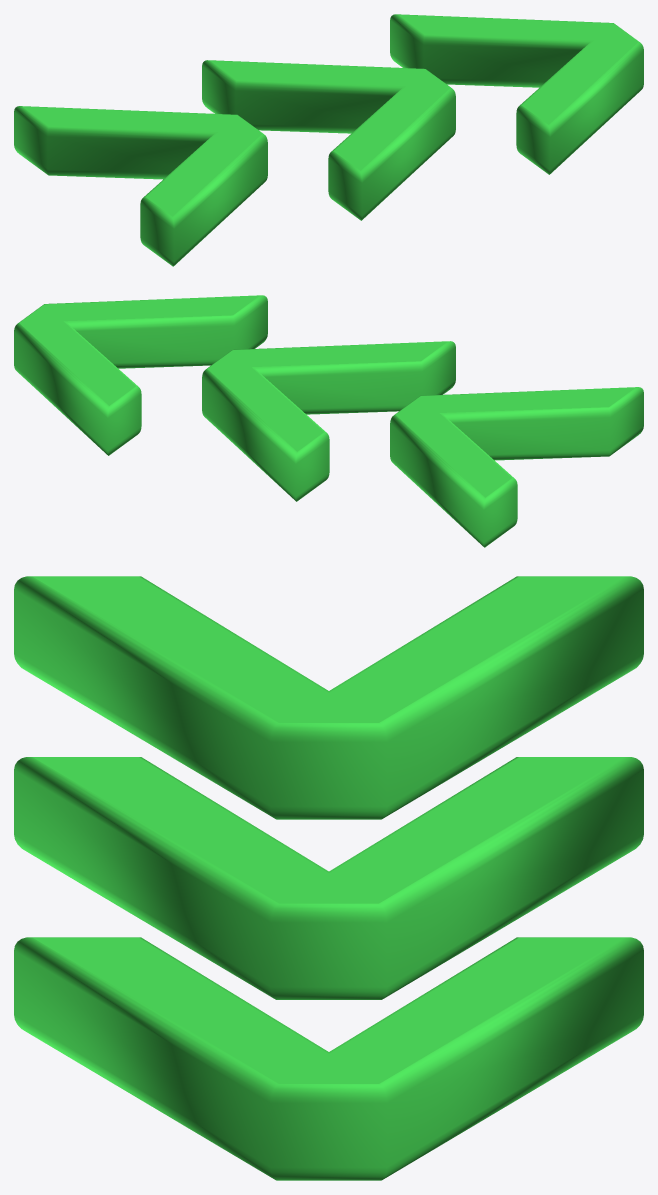
3 renders of one model, top to bottom at view 1: azimuth 30°, elevation 25°; view 2: azimuth 150°, elevation 25°; view 3: azimuth 270°, elevation 25°, orthographic. The views are drawn at different scales.
Parts seen in each view (by area): view 1: Text; view 2: Text; view 3: Text.
Part boxes in pixels (bbox=[...]): Text: bbox=[14, 14, 643, 266]; Text: bbox=[14, 295, 643, 547]; Text: bbox=[14, 576, 643, 1180].
Bounding box in the file's own units: 0.9364 × 0.4853 × 0.0819.
